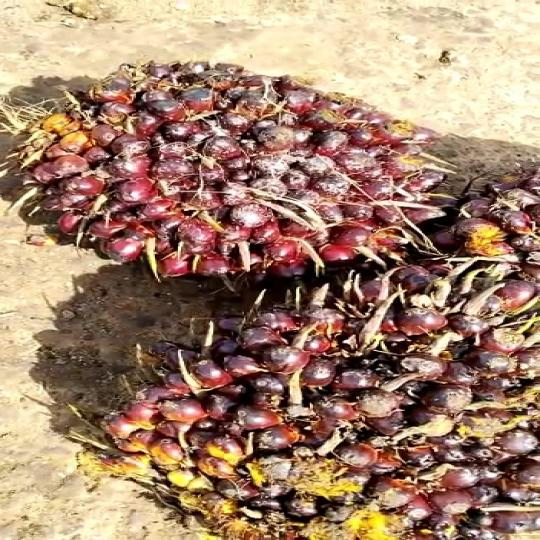kurang masak: (98, 258, 540, 540), (4, 53, 416, 257)
